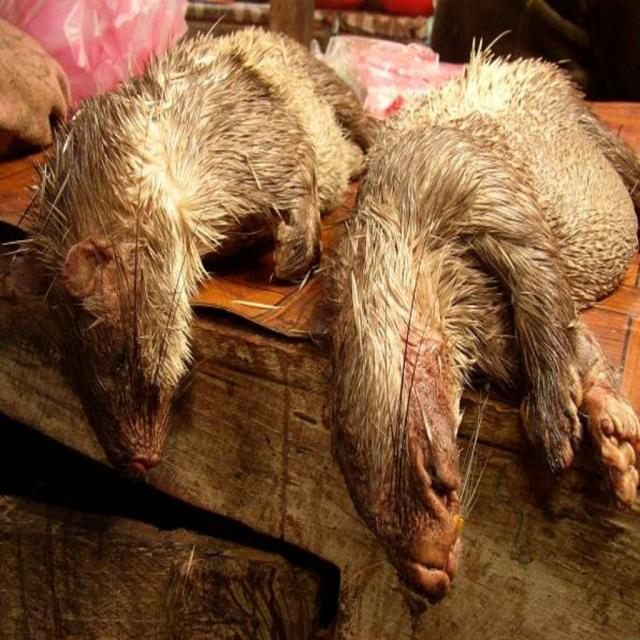rat: (322, 31, 639, 610), (0, 26, 381, 476)
